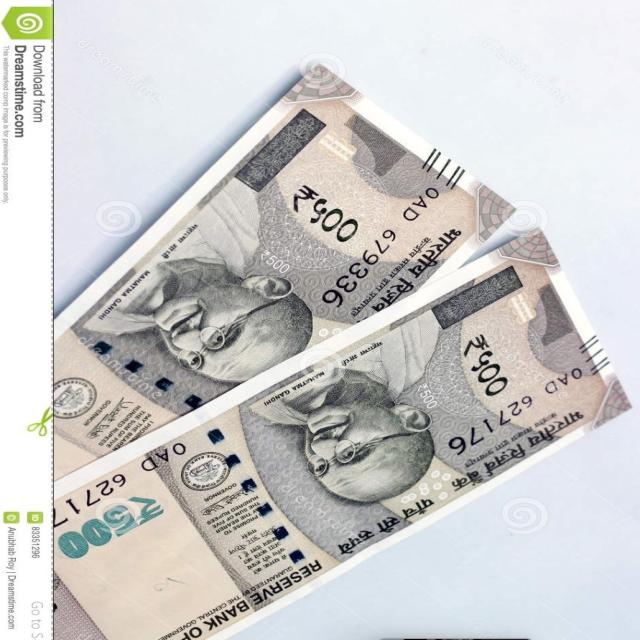500IndianRupees: (57, 59, 466, 400)
